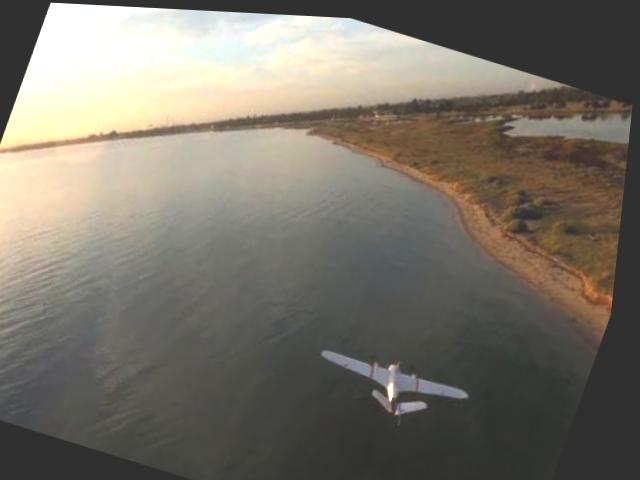uav: (310, 328, 484, 435)
